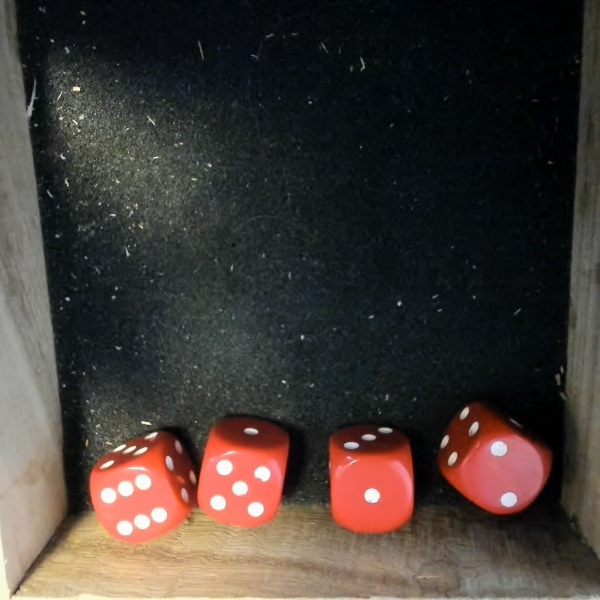red_die_pip1: (331, 427, 414, 535)
red_die_pip2: (421, 390, 563, 530)
red_die_pip5: (188, 413, 296, 533)
red_die_pip6: (70, 417, 212, 562)
